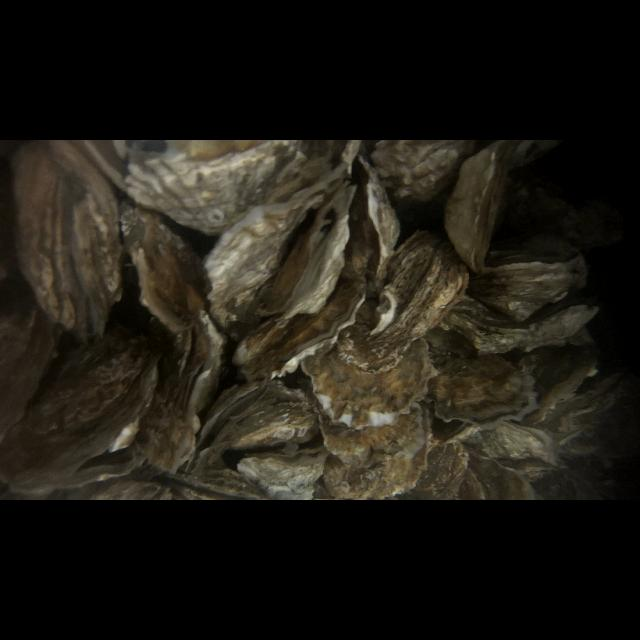Oyster-Closed: (86, 140, 367, 236), (0, 322, 162, 482), (13, 140, 123, 342), (341, 230, 469, 364), (232, 280, 370, 382), (0, 173, 52, 435), (117, 189, 209, 331), (50, 369, 154, 486), (305, 338, 439, 428), (444, 140, 516, 272), (473, 239, 587, 321), (438, 295, 598, 353), (370, 140, 476, 203), (138, 390, 205, 474), (316, 420, 428, 466), (406, 438, 480, 500), (524, 343, 588, 412), (318, 462, 426, 500), (236, 448, 330, 489), (459, 456, 538, 499), (85, 478, 178, 500)
Oyster-Open: (205, 178, 358, 342), (191, 384, 319, 476), (436, 356, 540, 428), (344, 168, 401, 296), (155, 322, 221, 412), (471, 423, 563, 472), (166, 466, 260, 500)
